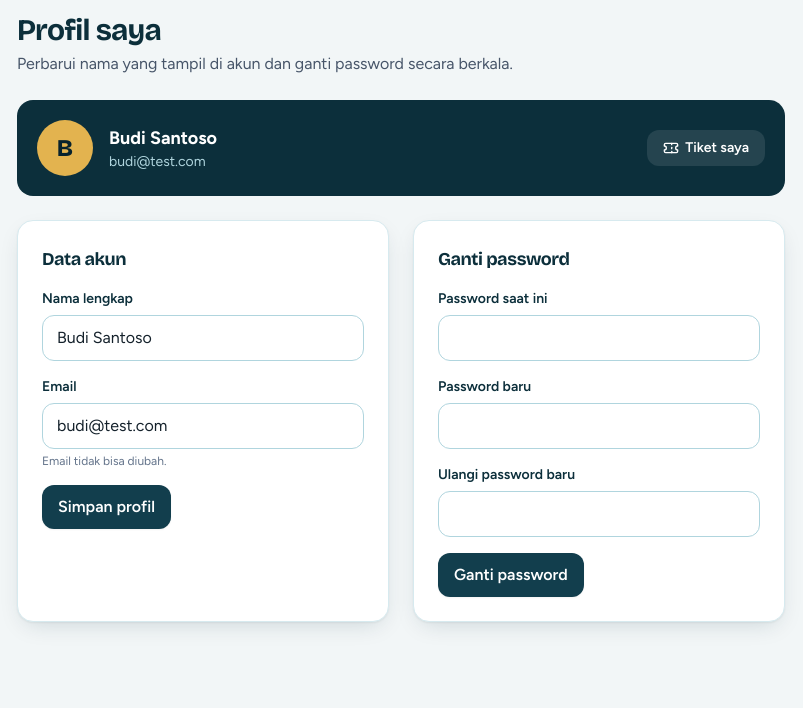
ProfilePage › password saat ini salah menampilkan error pada field
Type "salahsalah" into the password field with id "current-password". click: (599, 338)
box: [438, 315, 760, 361]
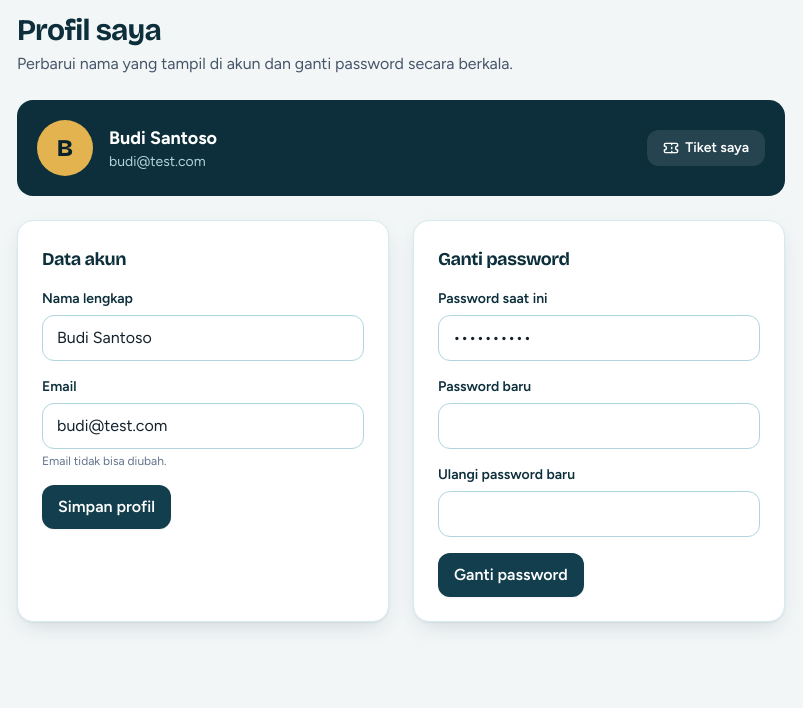
Type "baru12345" into the password field with id "new-password". click: (599, 426)
box: [438, 403, 760, 449]
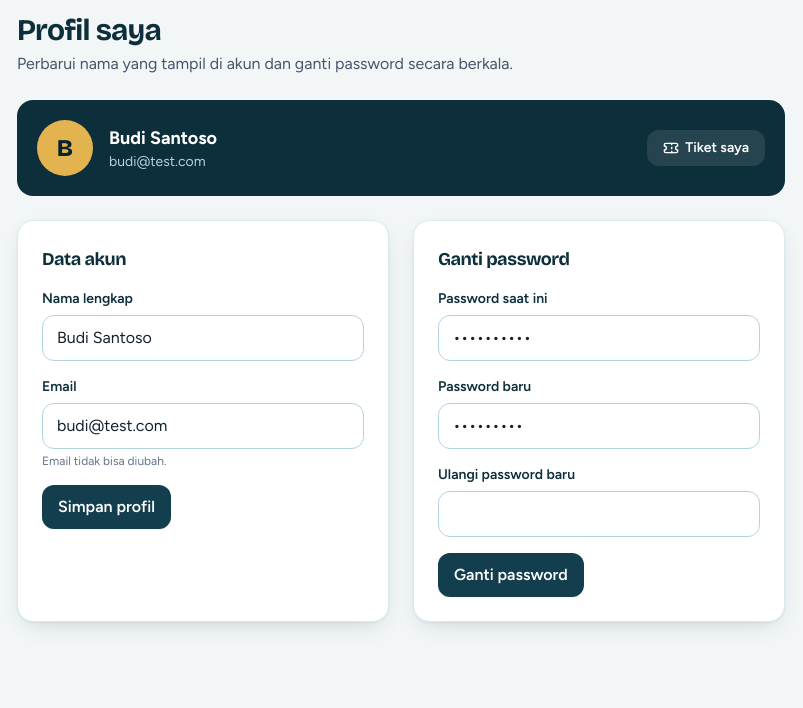
Type "baru12345" into the password field with id "confirm-password". click: (599, 514)
box: [438, 491, 760, 537]
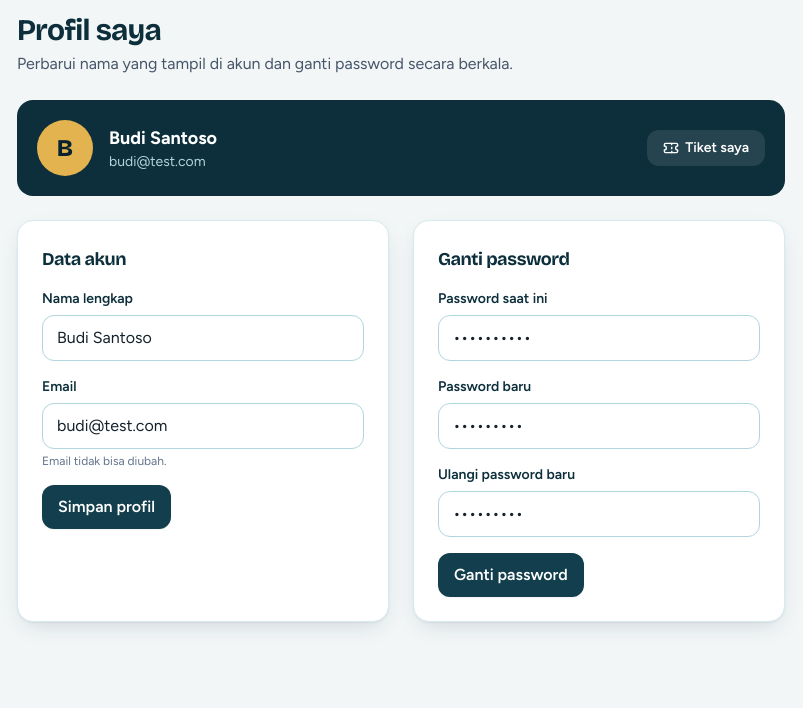
Submit the form that starts with "Ganti password", box [413, 220, 785, 622]
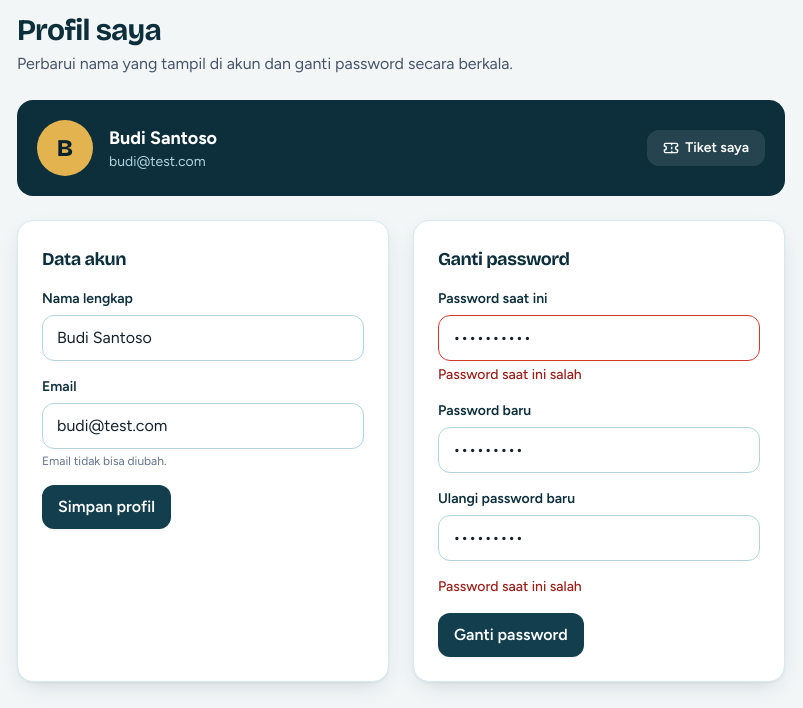
Now the 1st message "Password saat ini salah" is shown, box [438, 366, 582, 383]
